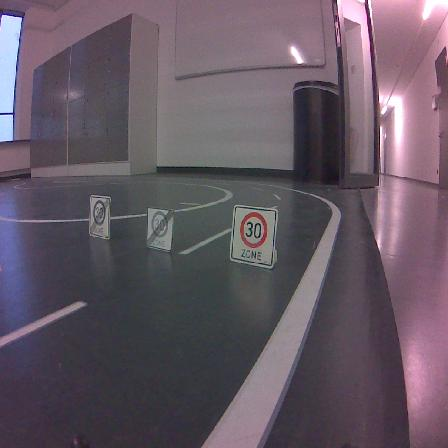30_ZONE_BEGIN: (230, 204, 278, 270)
30_ZONE_END: (146, 207, 174, 252), (90, 195, 111, 239)
